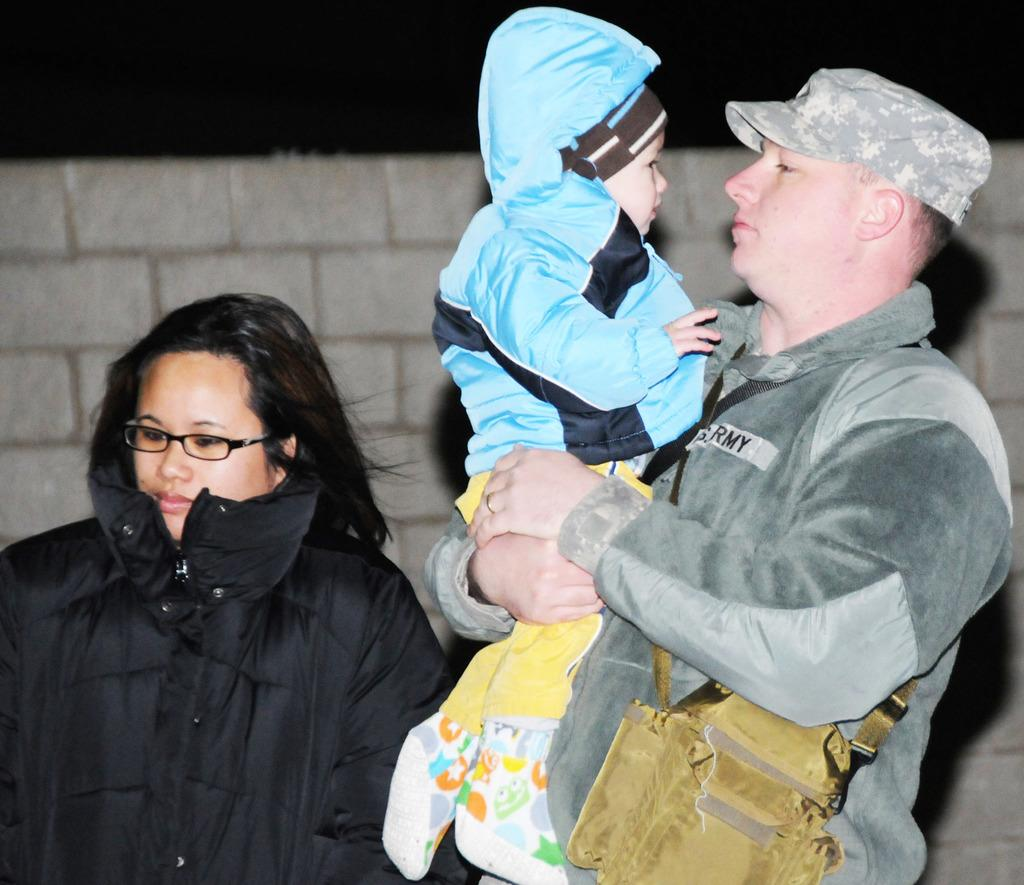Hat: (724, 65, 994, 224)
